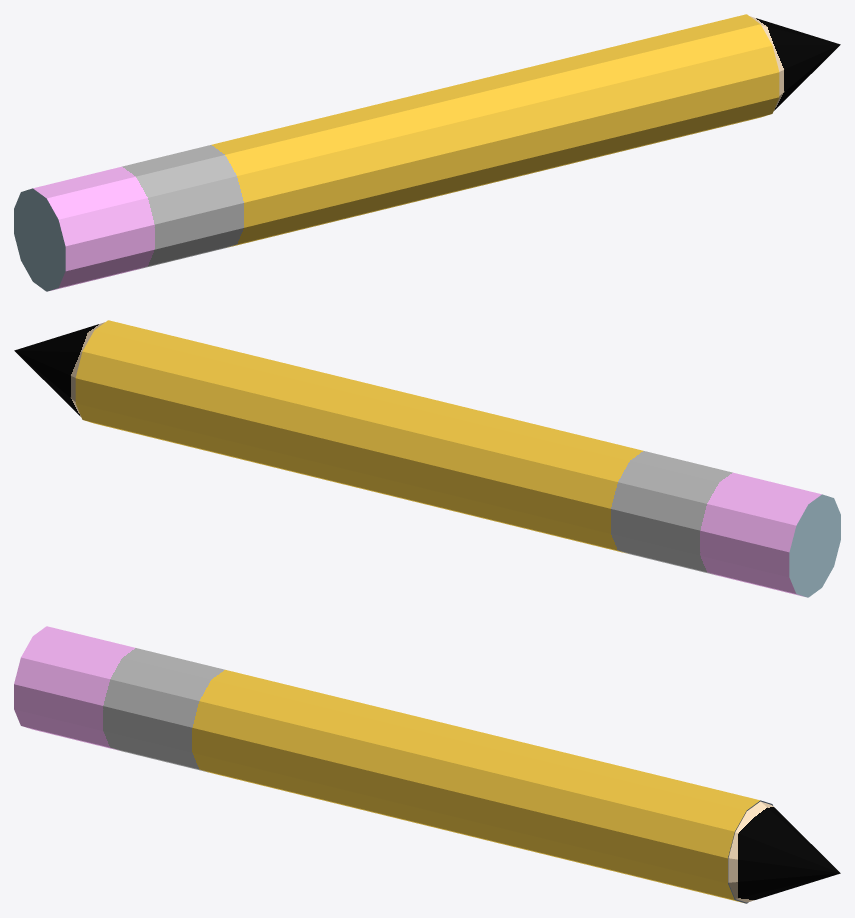
3 views of the same model, one above another, from view 1: azimuth 30°, elevation 25°; view 2: azimuth 150°, elevation 25°; view 3: azimuth 330°, elevation 25° (orthographic).
Parts seen in each view (by area): view 1: cylinder, cone; view 2: cylinder, cone; view 3: cylinder, cone.
Boxes of the visible parts, box(x1,y1,x2,y2) form: cylinder: box(14, 14, 779, 291); cone: box(750, 16, 840, 110); cylinder: box(75, 320, 840, 597); cone: box(14, 322, 104, 416); cylinder: box(14, 626, 772, 903); cone: box(728, 801, 840, 902).
Bounding box in the file's own units: 0.5612 × 0.0625 × 0.0625.
Materials: 2 (2 with a texture image).
